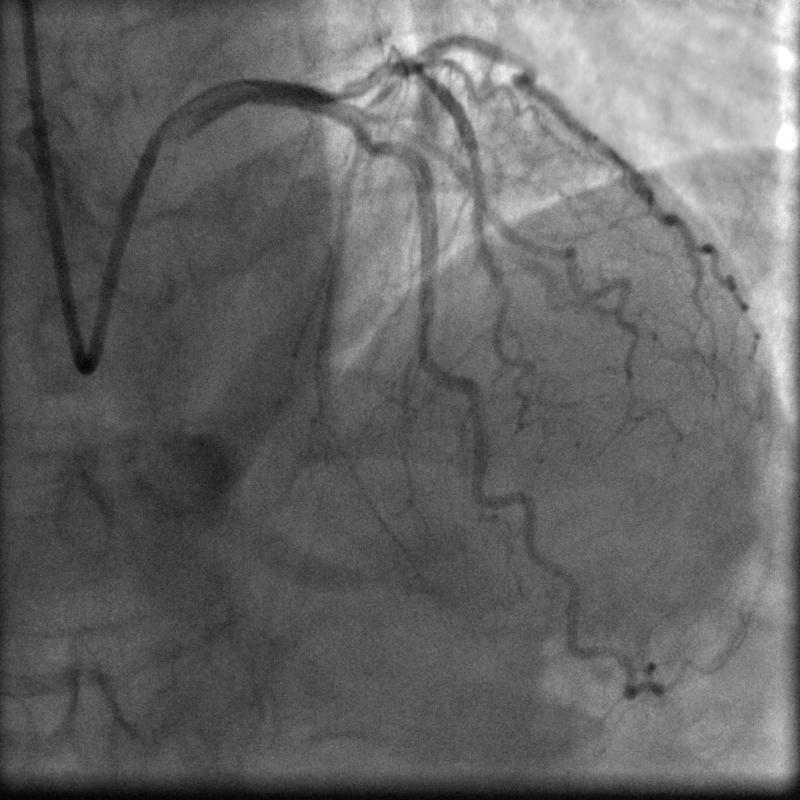Stenosis: (321, 67, 385, 98)
